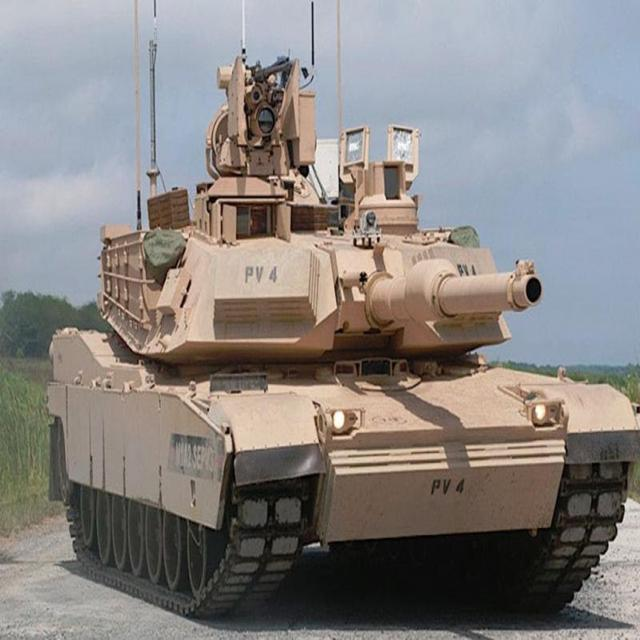Tanks: (49, 47, 572, 604)
